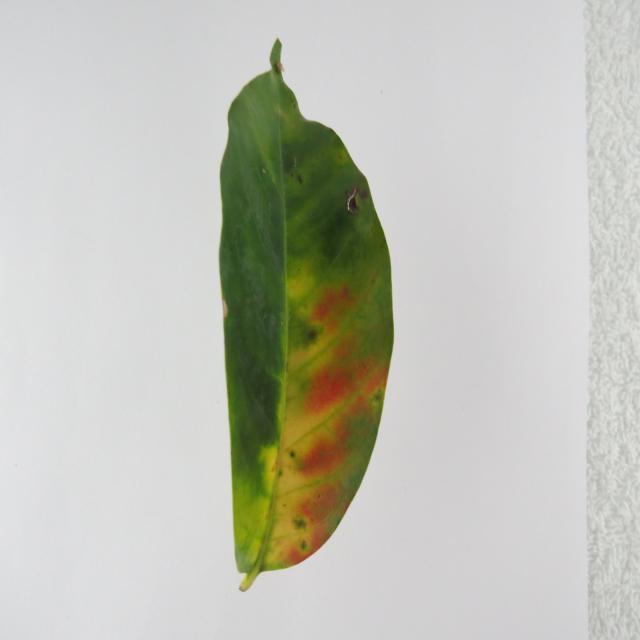DeficienciaNutricional-Fosforo: (220, 40, 394, 590)
